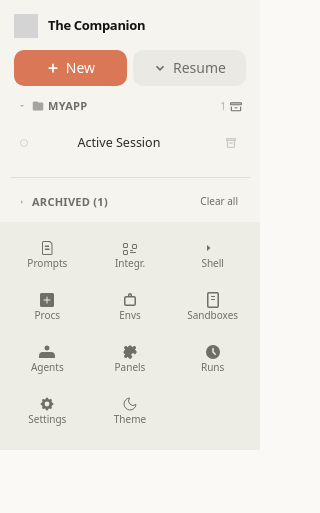
Scenario: Sidebar › toggle archived shows/hides archived sessions
The width and height of the screenshot is (320, 513).
expect the text "Archived Session" is not shown: met
Click the archived toggle button
Click the button "Archived (1)": coordinates (101, 202) [10, 190, 192, 214]
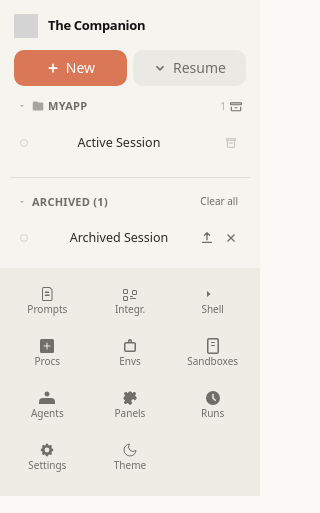
expect the text "Archived Session" is shown: met, box [70, 229, 168, 246]
